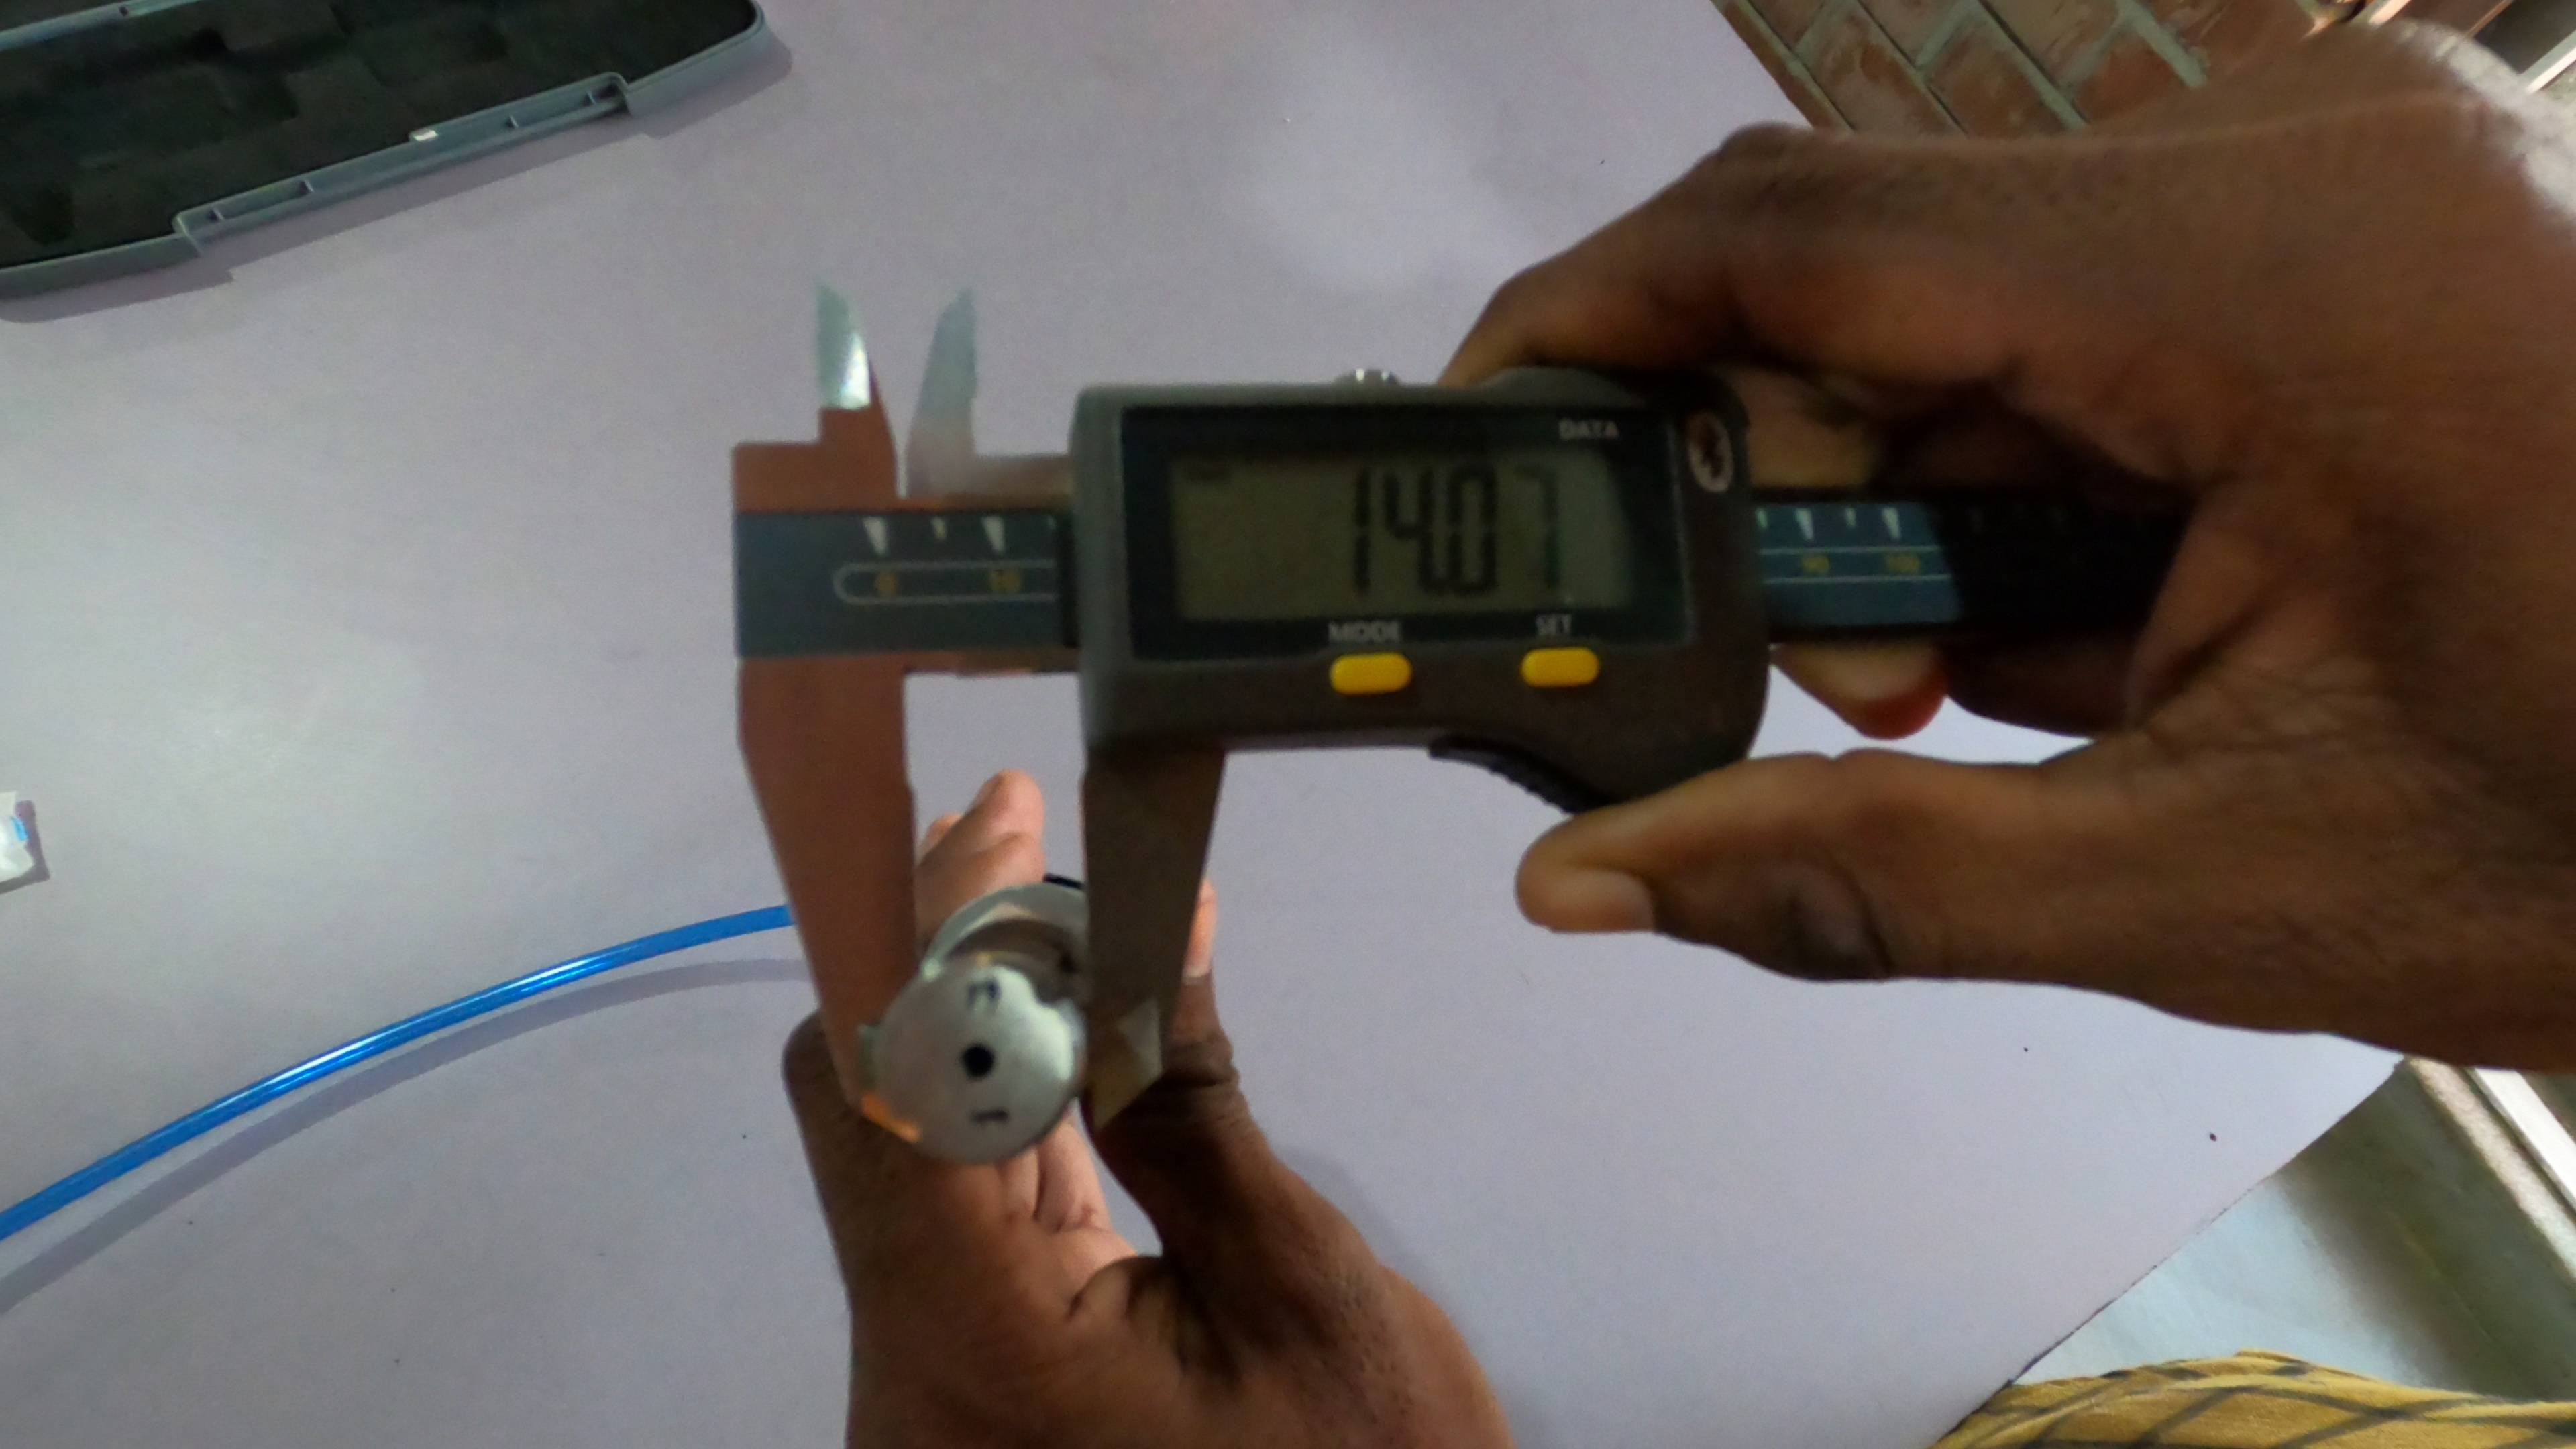vernier_caliper: (738, 264, 2125, 1162)
